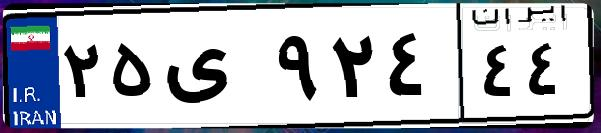2: (330, 28, 385, 110), (57, 26, 110, 100)
4: (385, 28, 445, 110), (475, 38, 525, 113), (525, 38, 570, 115)
5: (110, 28, 158, 98)
9: (270, 28, 330, 110)
ی: (158, 20, 270, 120)
